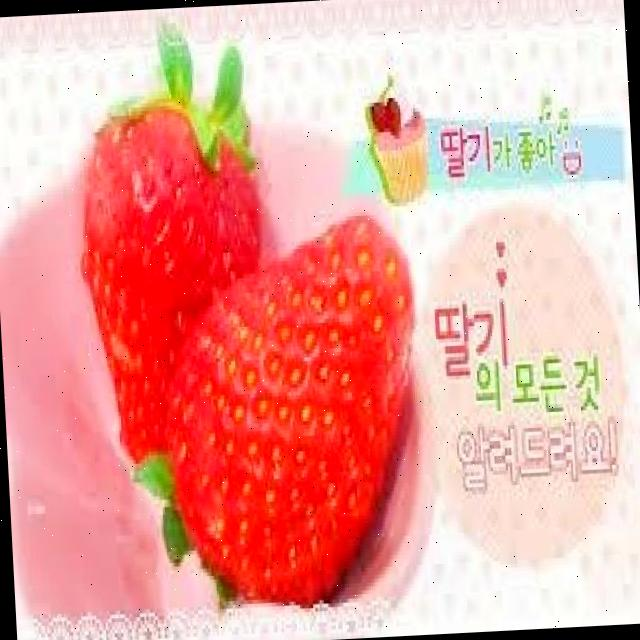strawberry: (154, 210, 430, 614), (70, 100, 272, 466)
